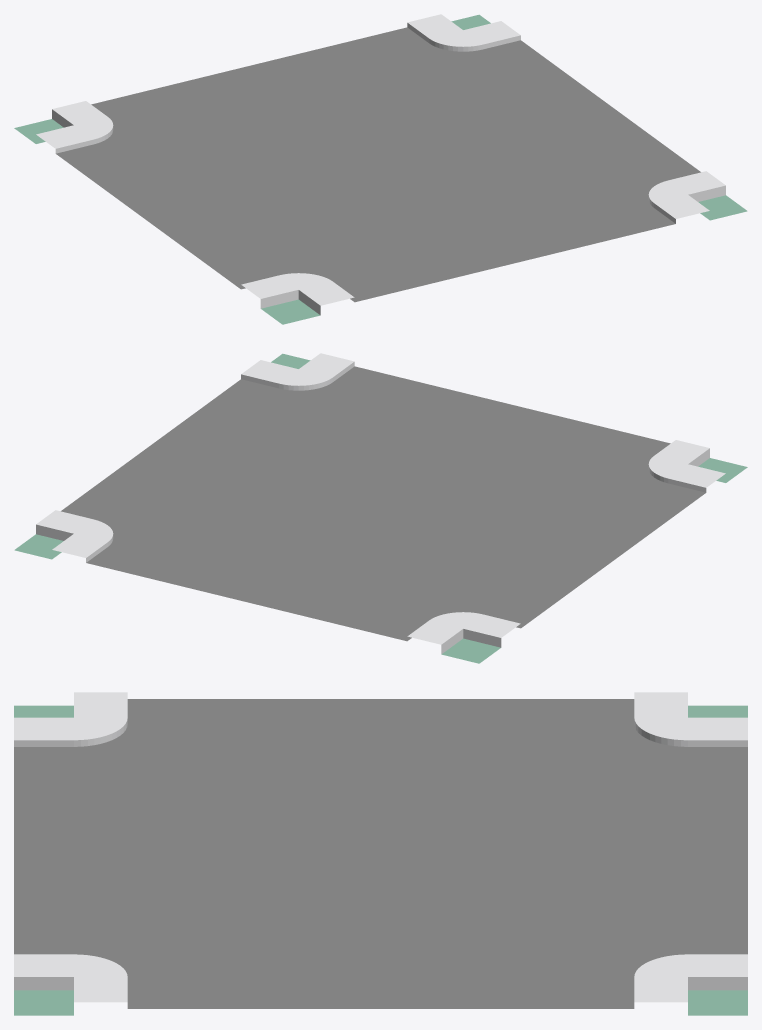
Rendered from roadCrossingSmall.glb.
The picture shows the model from 3 angles, top to bottom: view 1: azimuth 30°, elevation 25°; view 2: azimuth 150°, elevation 25°; view 3: azimuth 270°, elevation 25°; orthographic projection. The views are drawn at different scales.
Parts seen in each view (by area): view 1: roadCrossing; view 2: roadCrossing; view 3: roadCrossing.
Part boxes in pixels (bbox=[...]): roadCrossing: bbox=[14, 14, 747, 324]; roadCrossing: bbox=[14, 353, 747, 663]; roadCrossing: bbox=[14, 692, 747, 1015].
Bounding box in the file's own units: 1 × 0.02 × 1.
